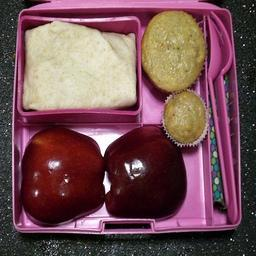apple: (17, 130, 103, 227), (103, 124, 185, 215)
